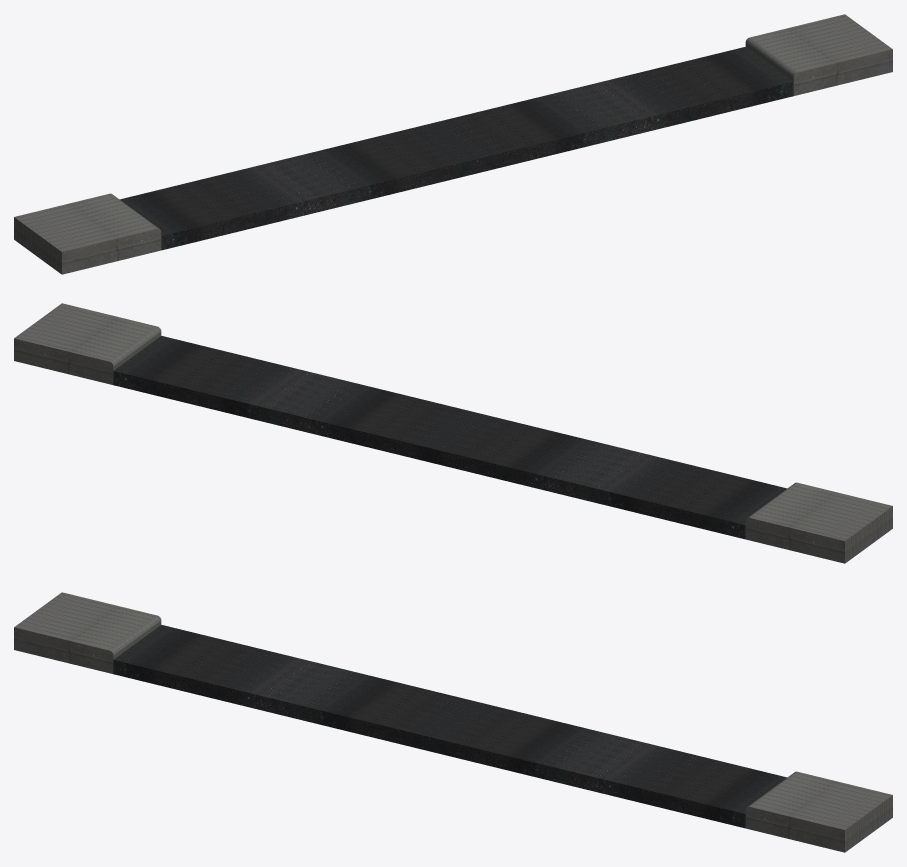
File: road-2.glb
3 views of the same model, one above another, from view 1: azimuth 30°, elevation 25°; view 2: azimuth 150°, elevation 25°; view 3: azimuth 330°, elevation 25° (orthographic).
Visible parts, largest first — view 1: Model; view 2: Model; view 3: Model.
Part boxes in pixels (<box>): Model: <box>14,14,892,274</box>; Model: <box>14,303,892,563</box>; Model: <box>14,592,892,852</box>.
Bounding box in the file's own units: 100 × 2.6 × 10.
2 materials, 2 textured.
